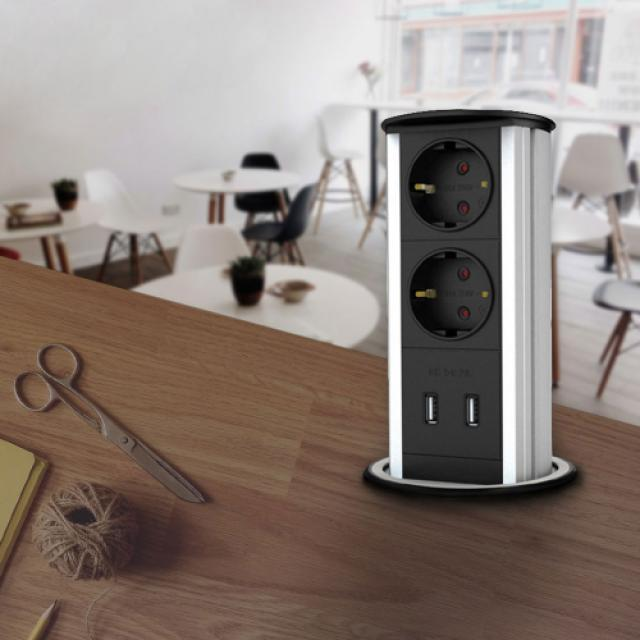typeb: (370, 97, 570, 530)
